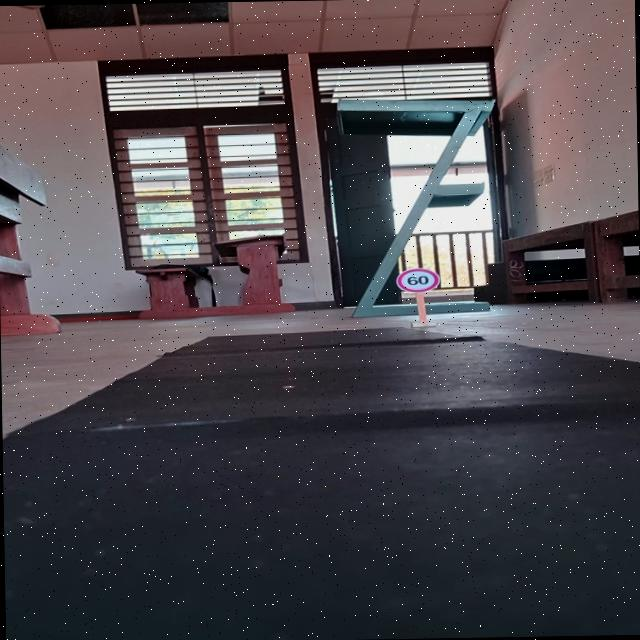Speed60: (394, 266, 440, 294)
